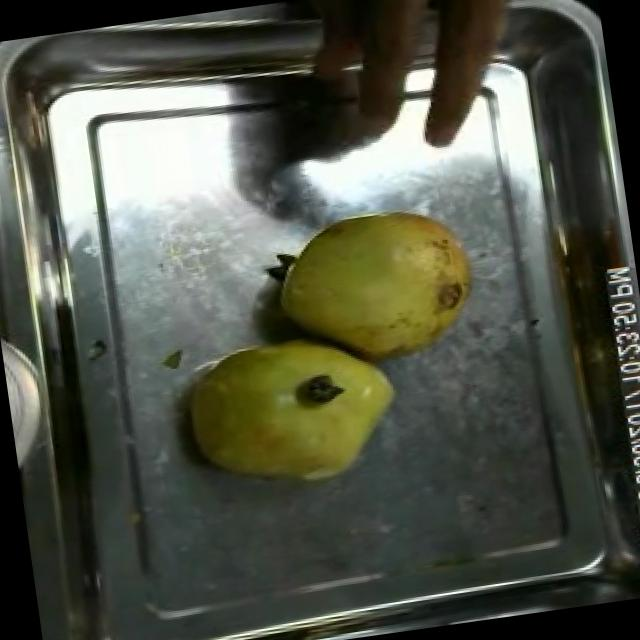fruit: (255, 185, 496, 392), (169, 320, 415, 510)
